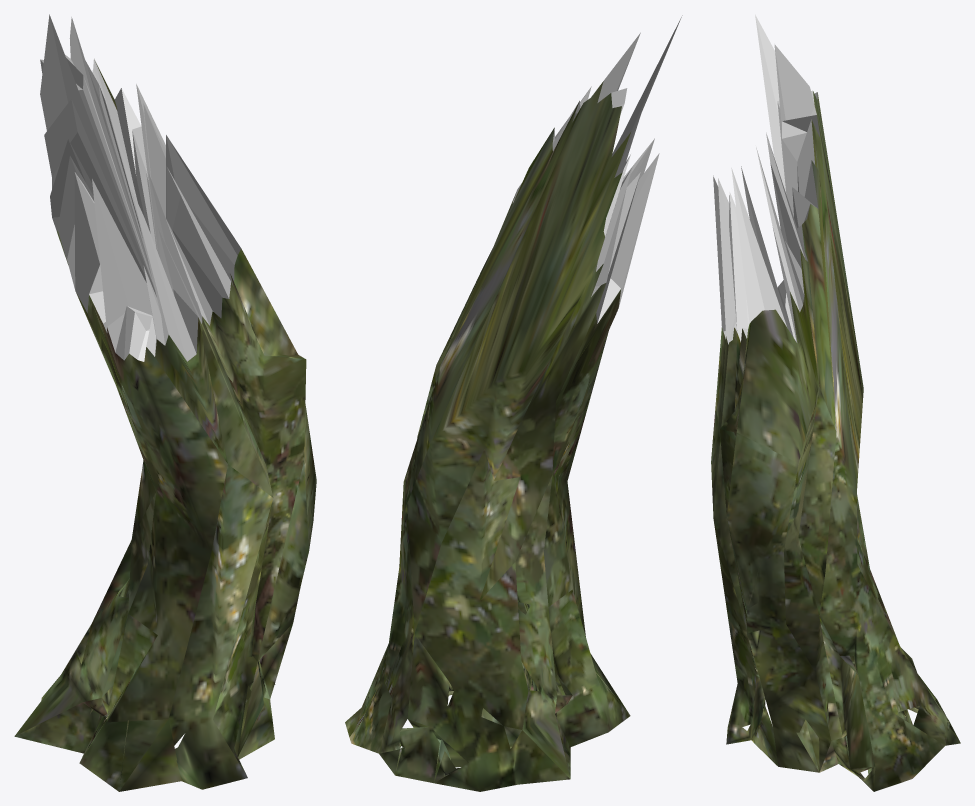
Rendered from SM_ShelledPine_A.fbx.
The picture shows the model from 3 angles, left to right: view 1: azimuth 30°, elevation 25°; view 2: azimuth 150°, elevation 25°; view 3: azimuth 270°, elevation 25°; orthographic projection. The views are drawn at different scales.
Visible parts, largest first — view 1: SM_ShelledPine_A; view 2: SM_ShelledPine_A; view 3: SM_ShelledPine_A.
Part boxes in pixels (box(x1,y1,x2,y2)): SM_ShelledPine_A: box(14, 14, 316, 791); SM_ShelledPine_A: box(345, 15, 682, 791); SM_ShelledPine_A: box(711, 14, 960, 791).
Size of the model in its own units: 0.9299 by 2.37 by 0.8165.
